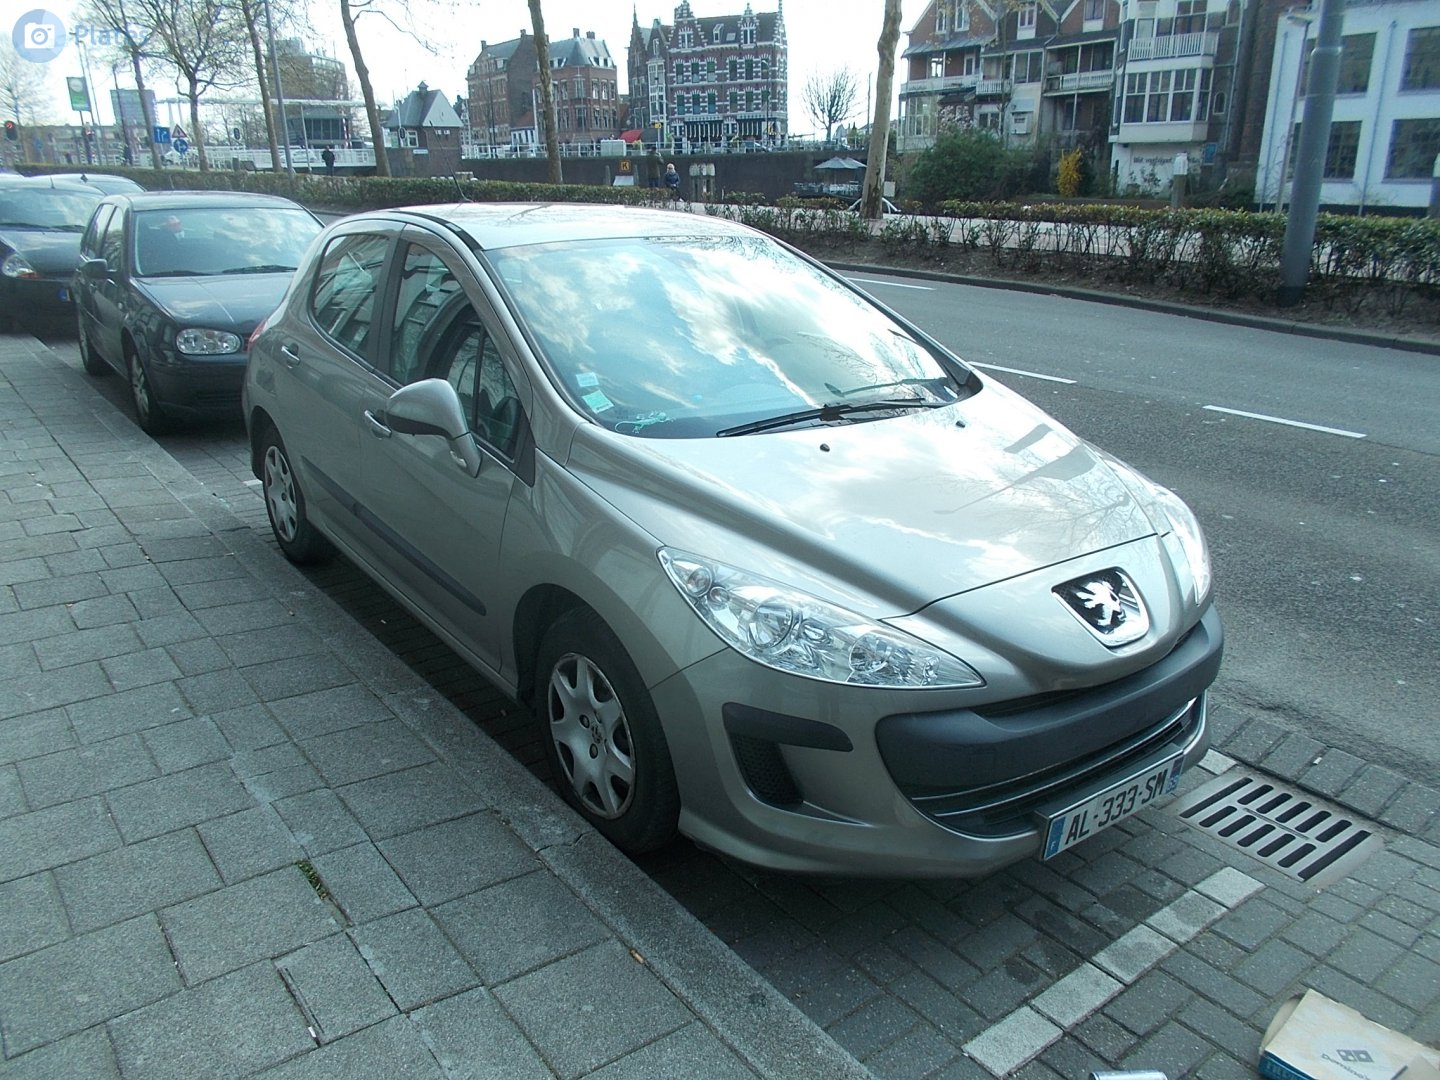licence plate: (1036, 747, 1186, 864)
